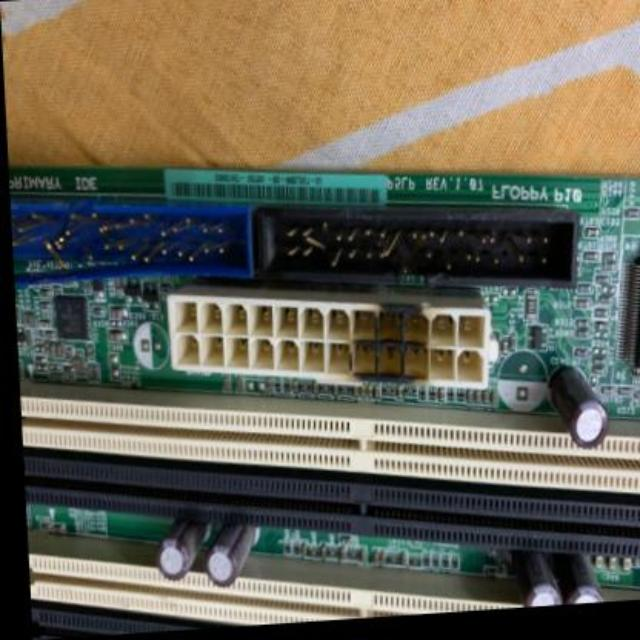PCB: (10, 158, 640, 628)
